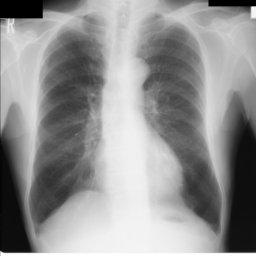right lobe: (138, 14, 221, 230), (31, 15, 106, 224)
